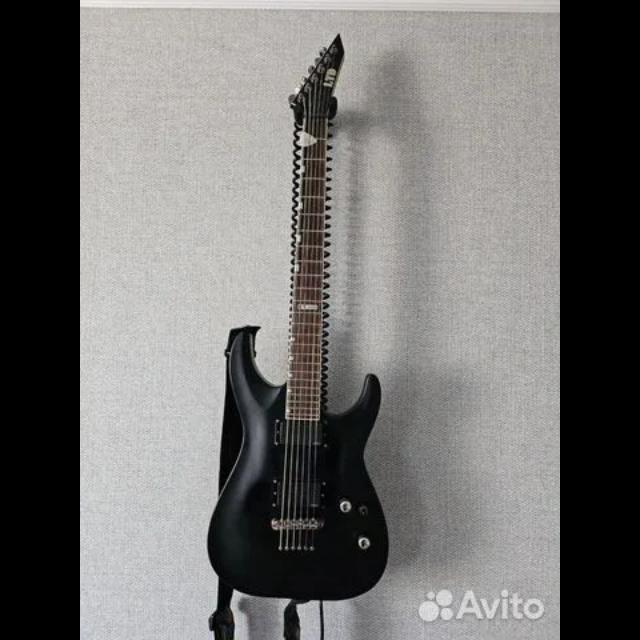Electric-Guitar: (207, 36, 389, 598)
